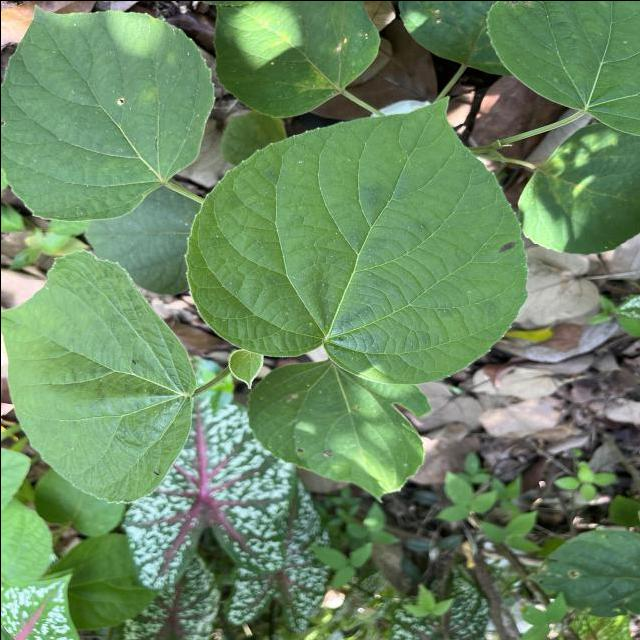Clerodendrum infortunatum: (180, 93, 530, 384), (0, 246, 199, 505), (0, 1, 218, 222), (246, 358, 432, 506)
